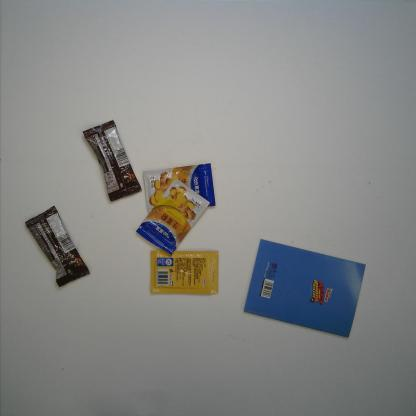Chocolate: (24, 205, 91, 289), (82, 120, 142, 202)
Seasoner: (135, 178, 211, 256), (143, 162, 216, 215), (149, 249, 219, 296)
Stationery: (243, 239, 366, 339)
